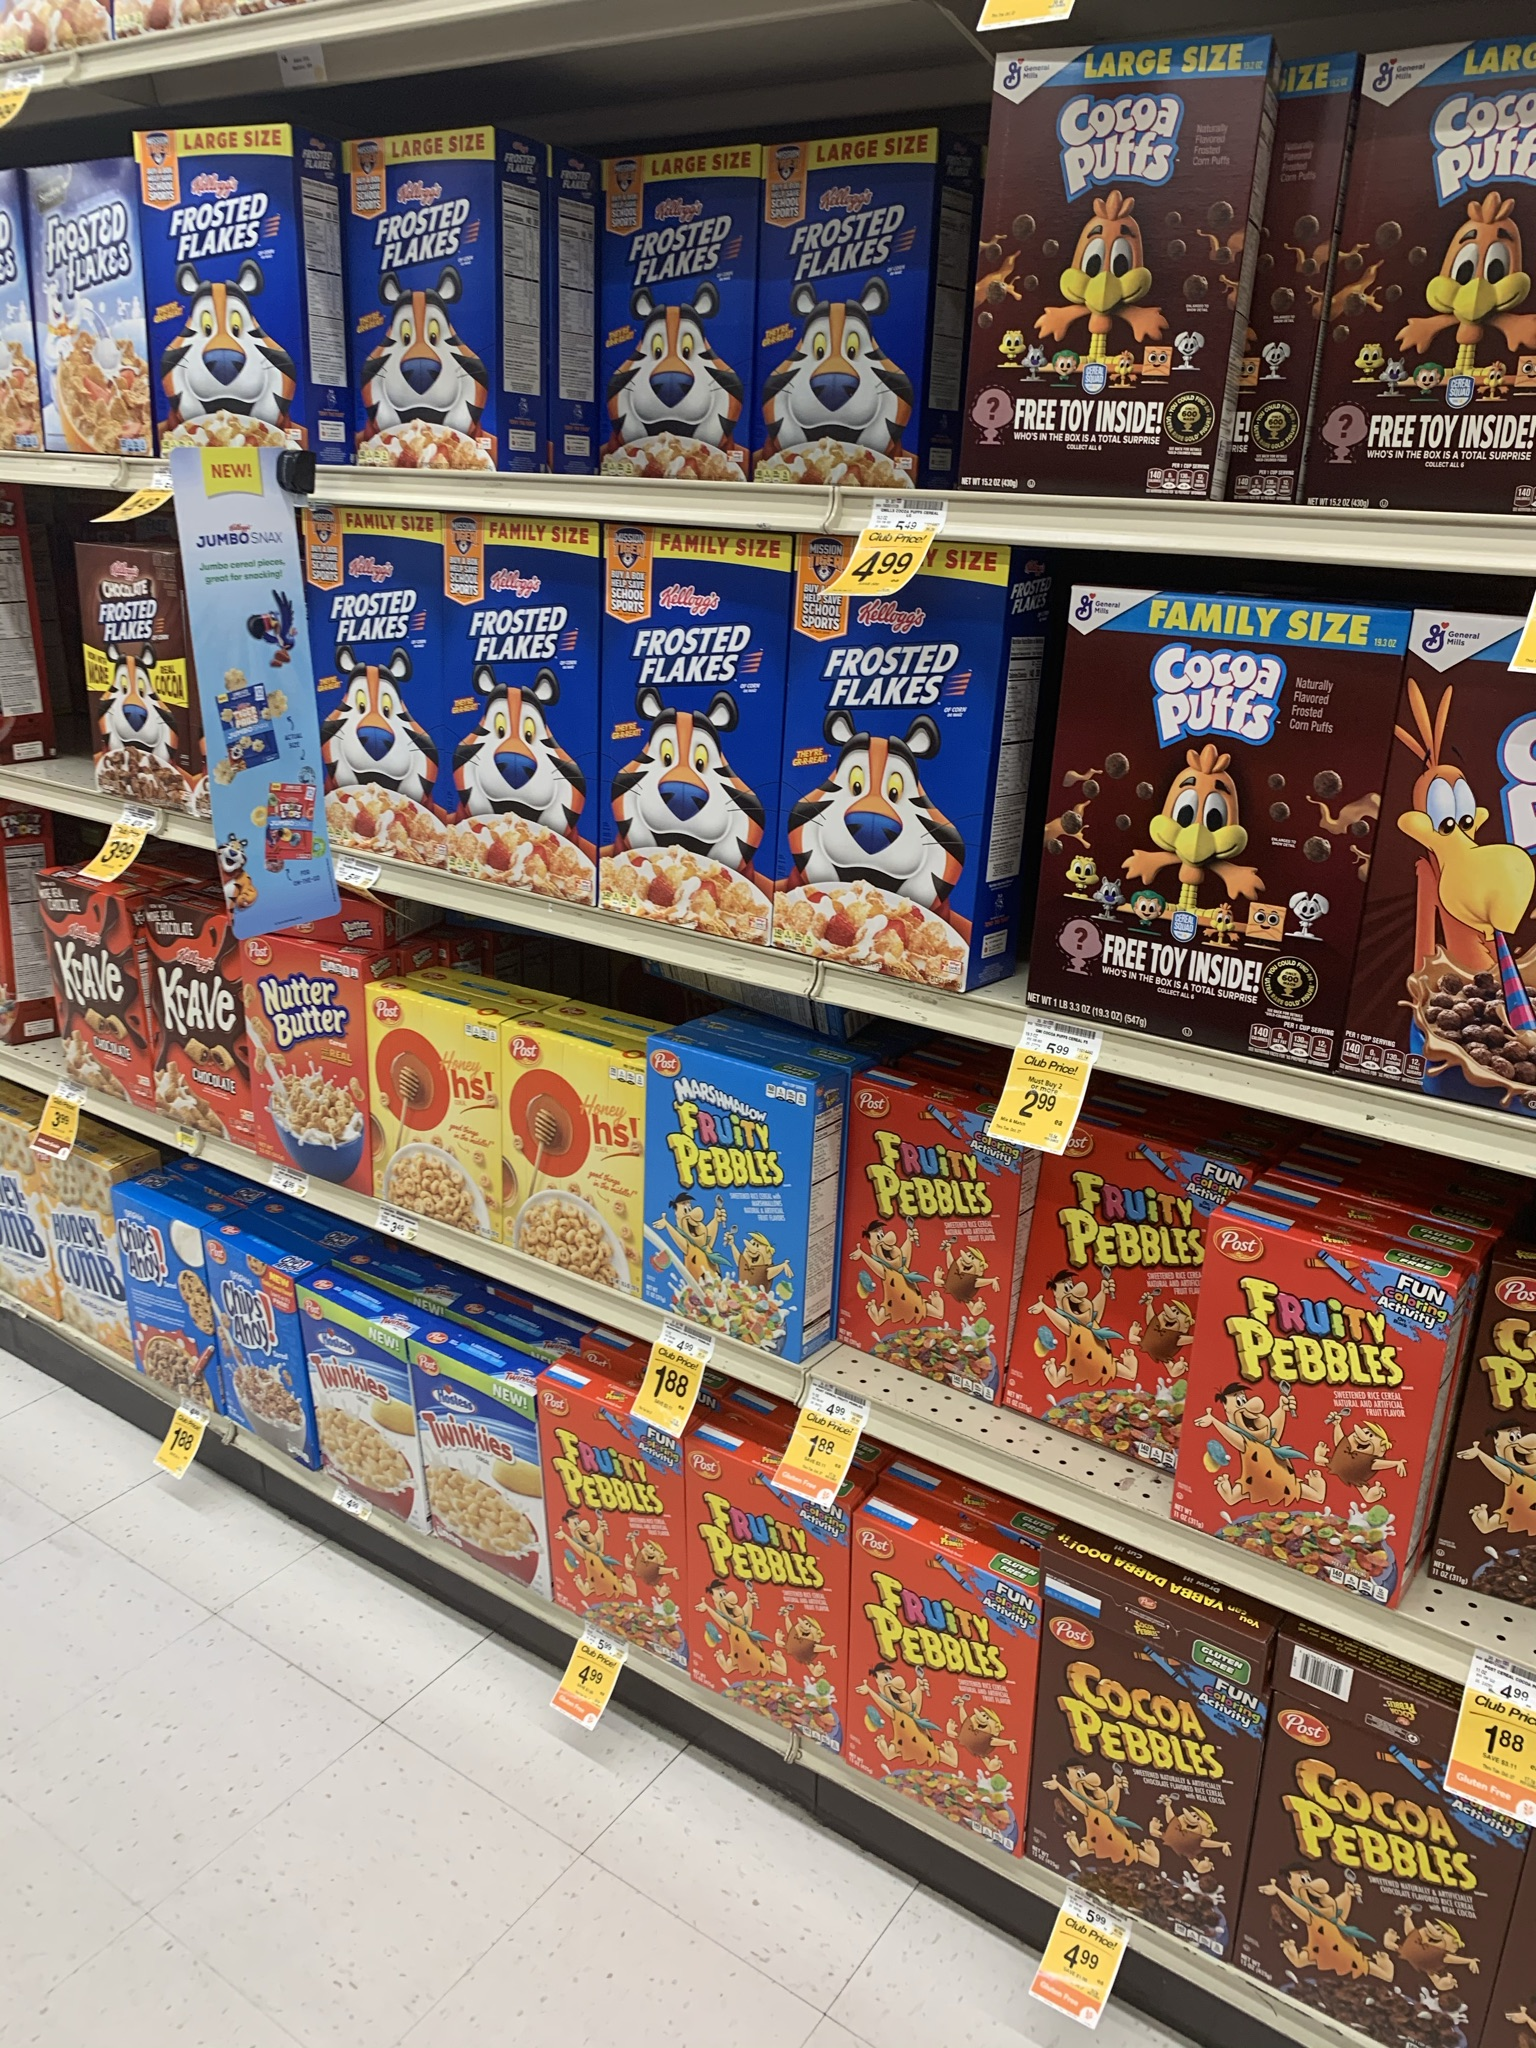cereal: (1054, 587, 1344, 1087), (983, 52, 1234, 505), (783, 534, 1008, 1000), (1184, 1197, 1418, 1598), (1338, 44, 1536, 513), (1031, 1580, 1246, 1946), (1275, 1688, 1492, 2048), (594, 519, 776, 948), (437, 521, 610, 918), (119, 134, 308, 477), (750, 139, 933, 490), (839, 1513, 1018, 1853), (332, 135, 508, 476), (842, 1061, 1008, 1414), (282, 513, 439, 872), (1033, 1108, 1196, 1453), (591, 155, 750, 489), (529, 1371, 695, 1688), (631, 1040, 795, 1351), (676, 1442, 839, 1753), (18, 173, 153, 466), (71, 543, 211, 813), (495, 1026, 637, 1292), (245, 939, 376, 1200), (408, 1340, 544, 1580), (361, 992, 487, 1234), (302, 1287, 416, 1521), (118, 1201, 227, 1408), (215, 1243, 303, 1450)
